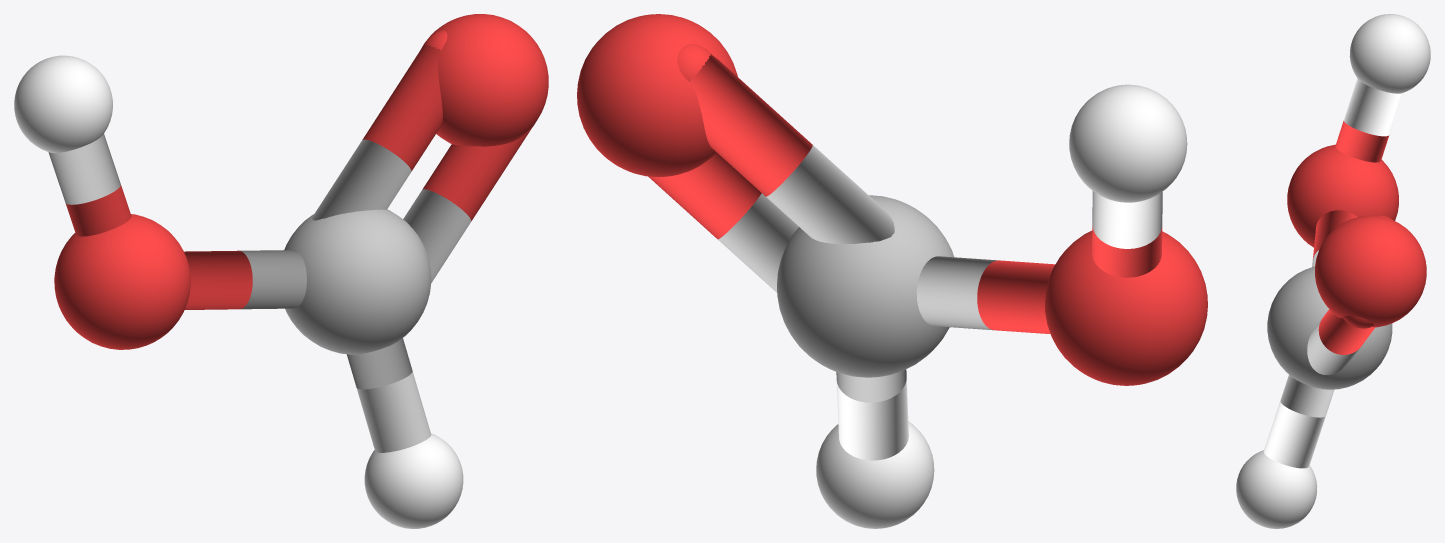
Rendered from formic_acid_methanoic_acid_molecule.glb.
The picture shows the model from 3 angles, left to right: view 1: azimuth 30°, elevation 25°; view 2: azimuth 150°, elevation 25°; view 3: azimuth 270°, elevation 25°; orthographic projection. The views are drawn at different scales.
Visible parts, largest first — view 1: Object_3, Object_2, Object_4; view 2: Object_3, Object_2, Object_4; view 3: Object_3, Object_4, Object_2.
Part boxes in pixels (<box>): Object_3: <box>54,14,548,349</box>; Object_2: <box>240,139,471,389</box>; Object_4: <box>14,55,463,528</box>; Object_3: <box>577,14,1207,385</box>; Object_2: <box>718,145,998,402</box>; Object_4: <box>816,84,1187,528</box>; Object_3: <box>1287,120,1426,354</box>; Object_4: <box>1236,14,1430,528</box>; Object_2: <box>1267,250,1392,417</box>.
Bounding box in the file's own units: 2.99 × 2.72 × 1.21.
